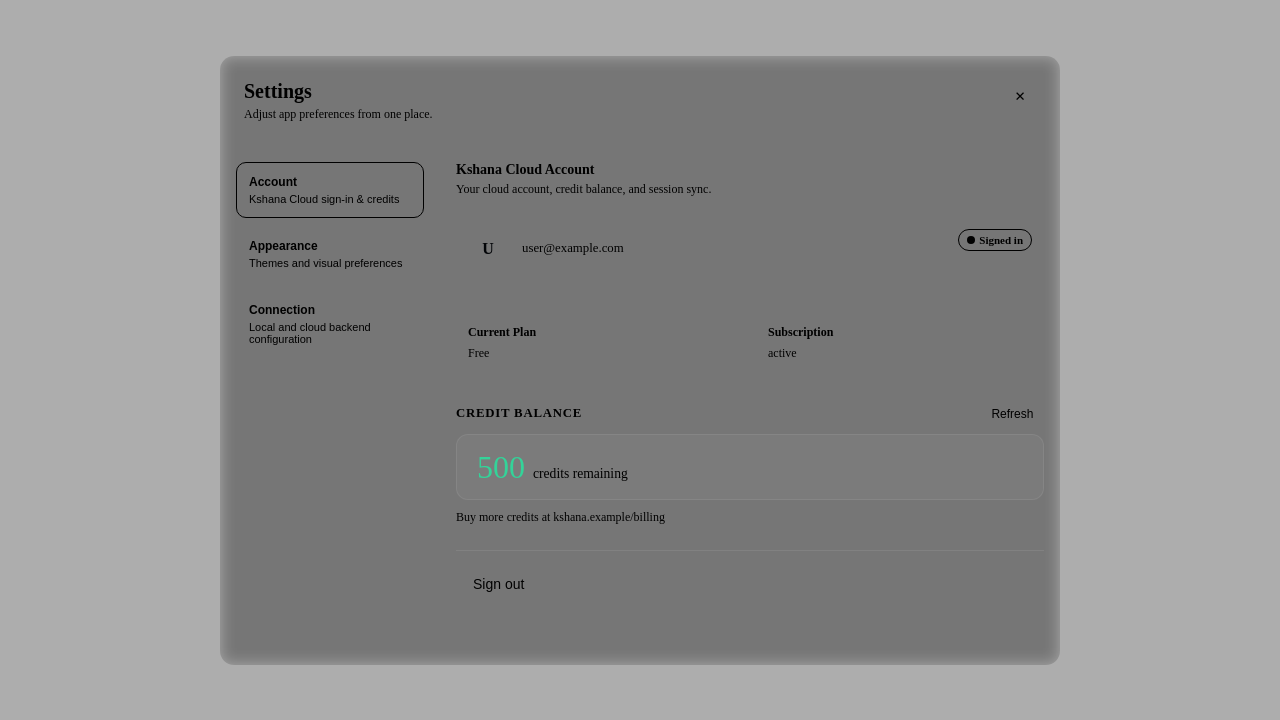
Test case: SettingsPanel › asks for confirmation before switching to cloud mode
Click the text "Connection": (282, 310) [249, 302, 315, 316]
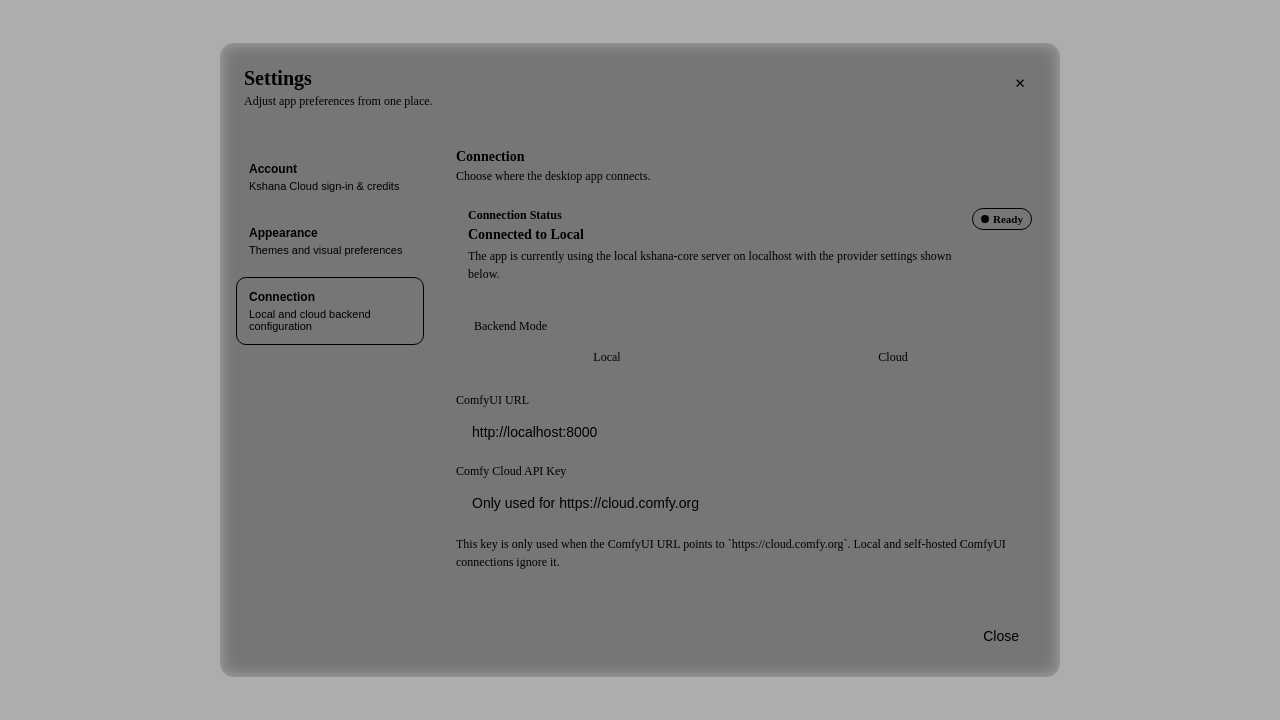
Expected: the field labelled "ComfyUI URL" is shown, [456, 412, 1060, 452]
Expected: the password field labelled "Comfy Cloud API Key" is shown, [456, 483, 1060, 523]
Click the radio button labelled "Cloud": (893, 357) [878, 350, 908, 364]
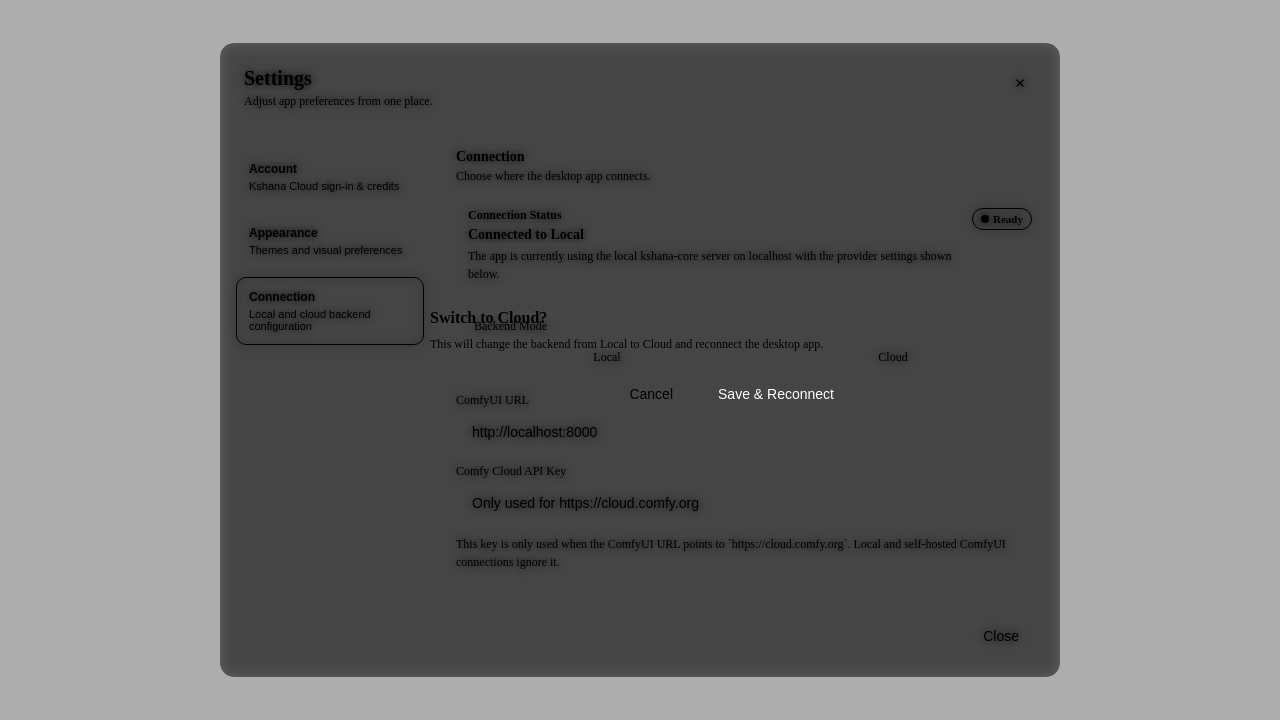
Expected: the radio button labelled "Local" is checked, [593, 350, 621, 364]
Expected: the dialog "Switch to Cloud" is shown, [406, 285, 874, 435]
Click the button "Save & Reconnect": (776, 394) [702, 377, 850, 411]
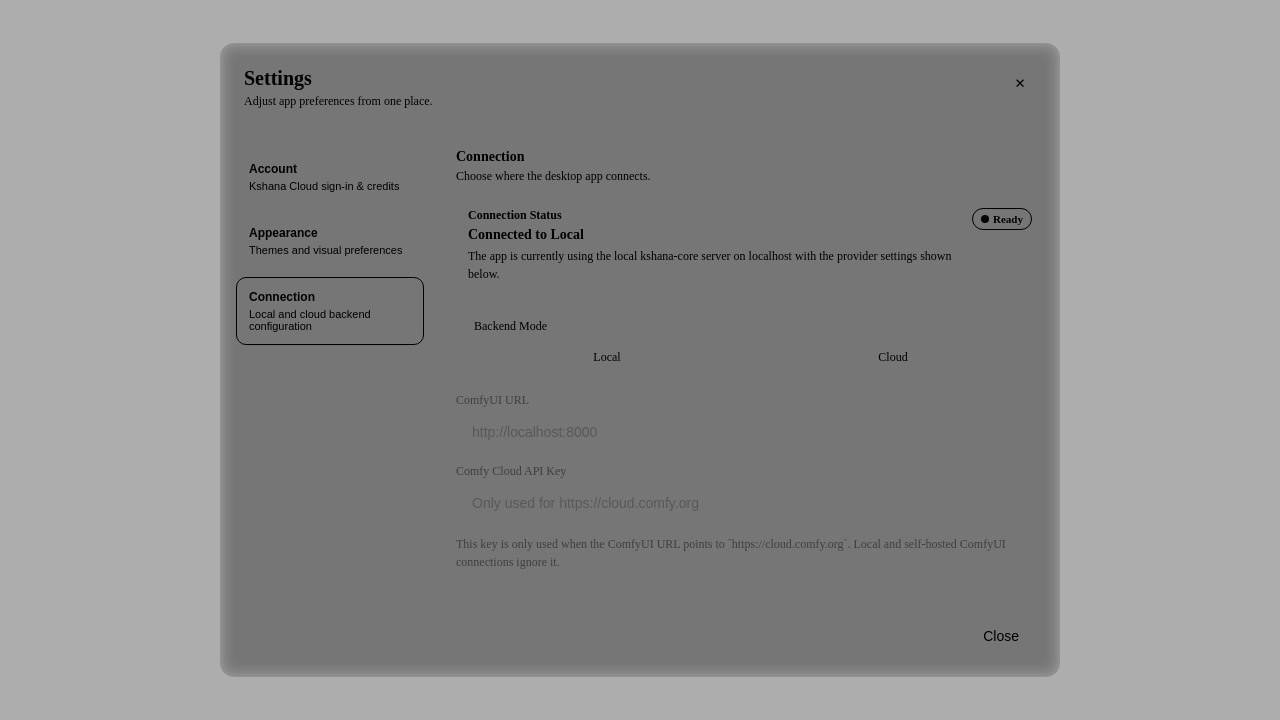
Expected: the radio button labelled "Cloud" is checked, [878, 350, 908, 364]
Expected: the field labelled "ComfyUI URL" is disabled, [456, 412, 1060, 452]
